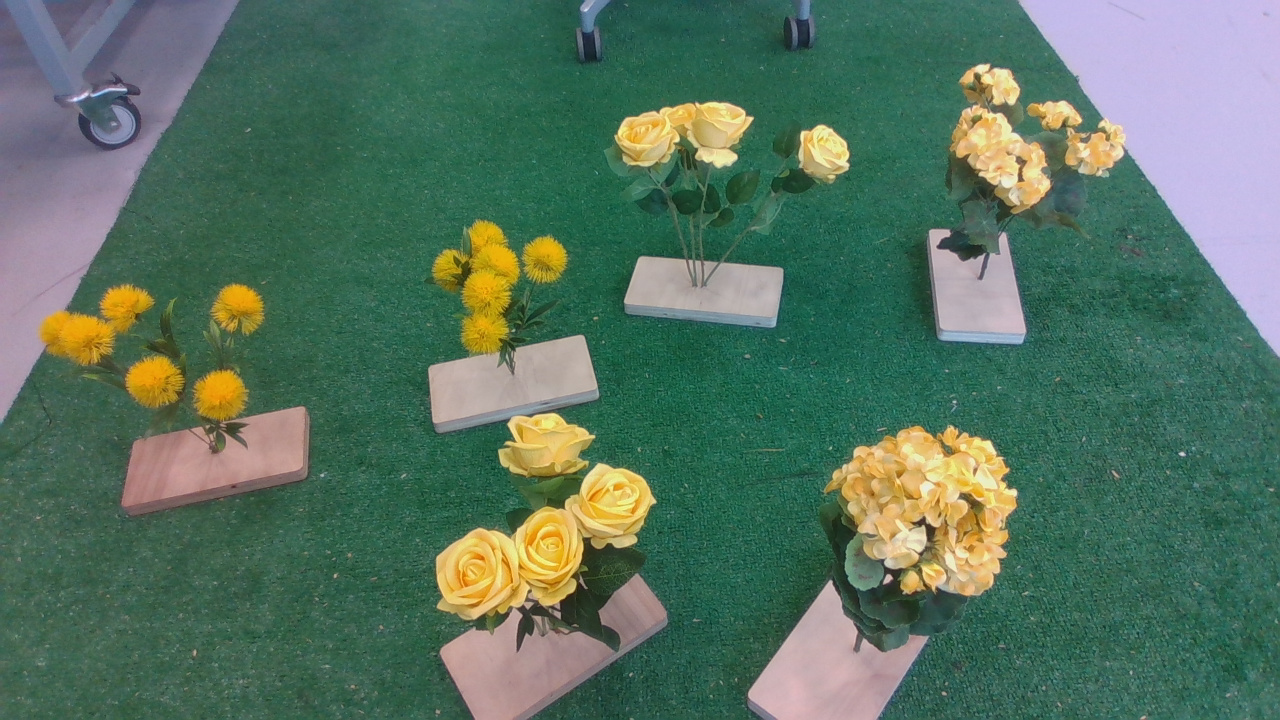dandelion: (39, 275, 294, 462), (420, 217, 581, 377)
geranium: (810, 422, 1027, 661), (919, 54, 1137, 266)
rose: (427, 414, 671, 655), (601, 104, 859, 239)
